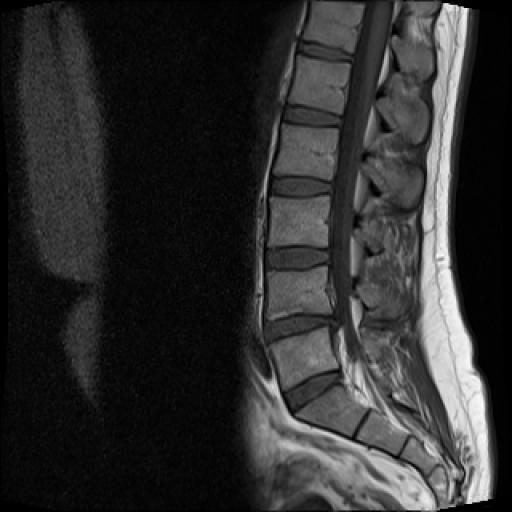L1: (288, 55, 350, 114)
L2: (273, 123, 339, 180)
L3: (268, 195, 328, 248)
L4: (266, 266, 332, 320)
L5: (269, 326, 339, 390)
S1: (295, 386, 368, 438)
